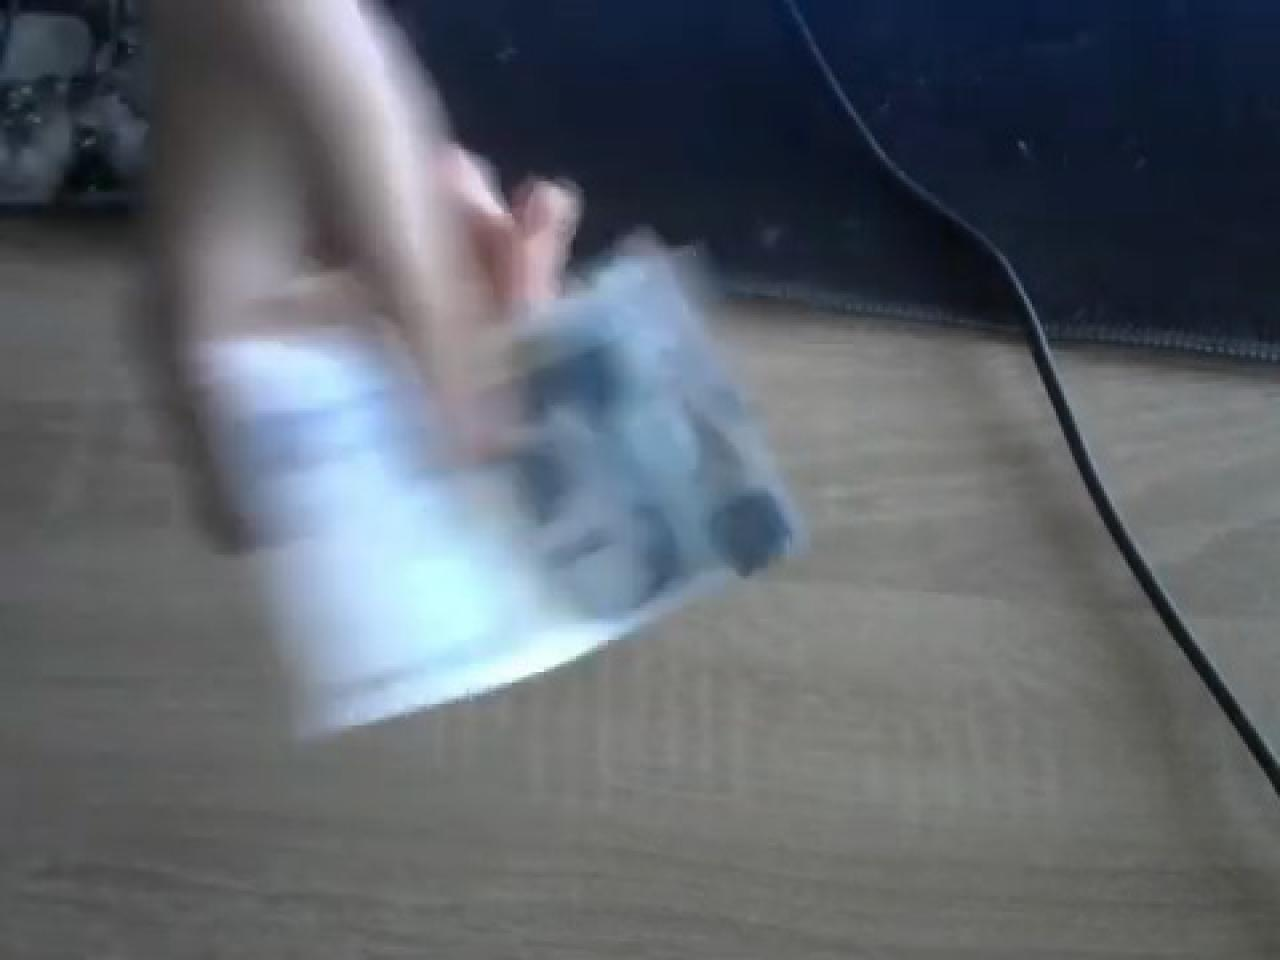20leva: (139, 0, 808, 741)
